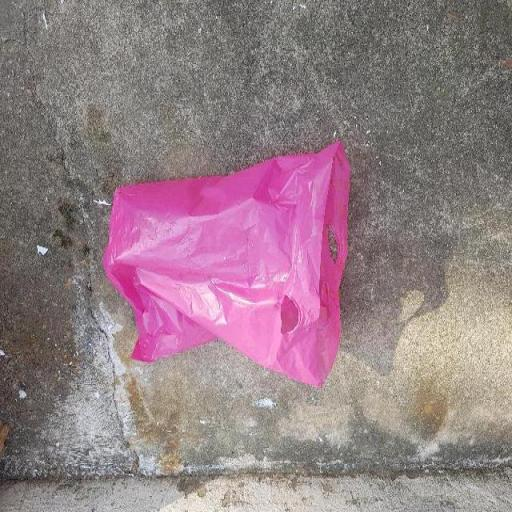polythene: (103, 142, 350, 386)
